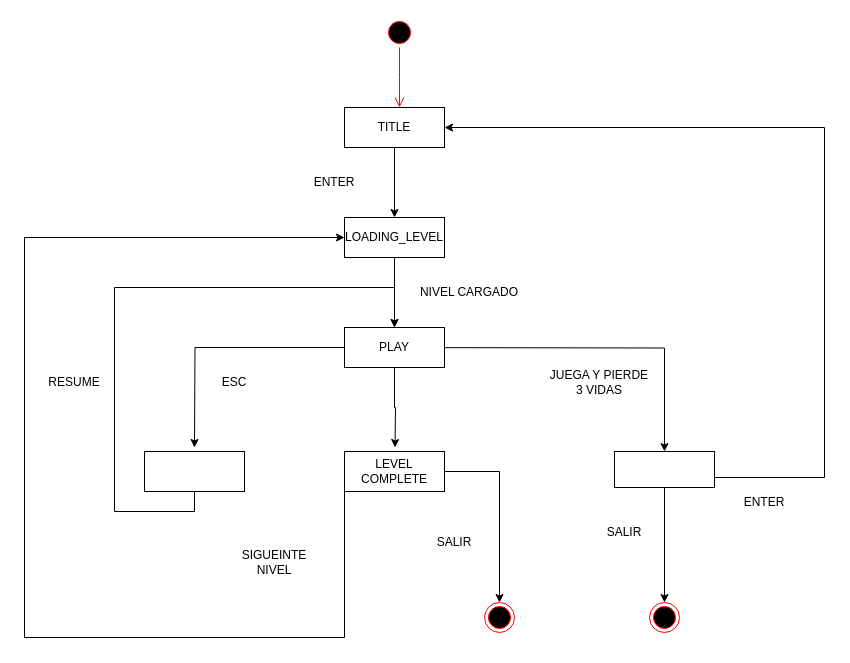
Image size: 850x663. Some labels were removed from this diagram. Here are the shapes that lost their labels. From the top down, the centre of each, then its label:
(x=194, y=471): PAUSE
(x=664, y=469): GAME OVER
